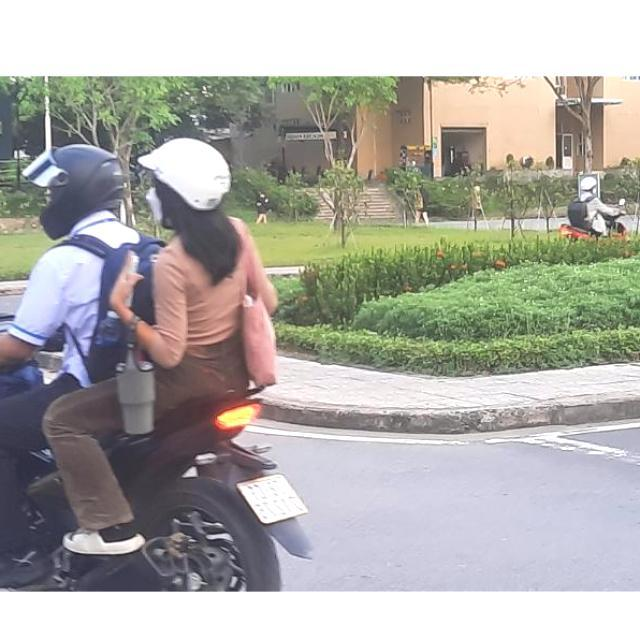Helmet: (27, 142, 123, 240), (138, 138, 232, 232)
